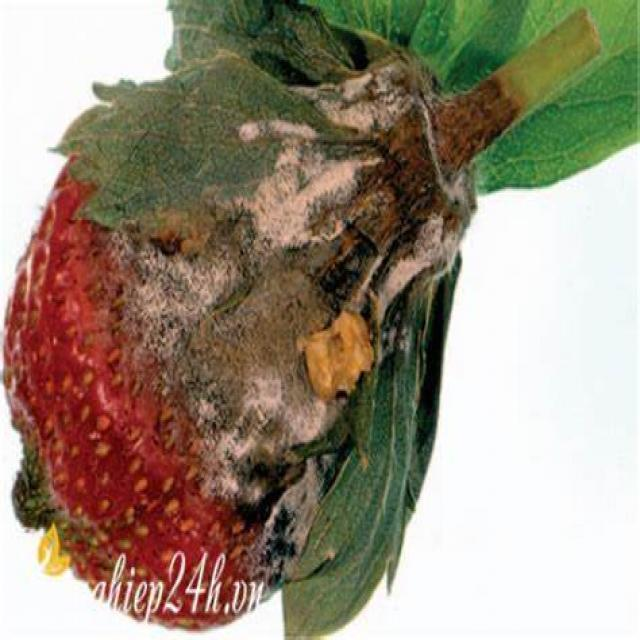Moho gris: (8, 56, 407, 609)
